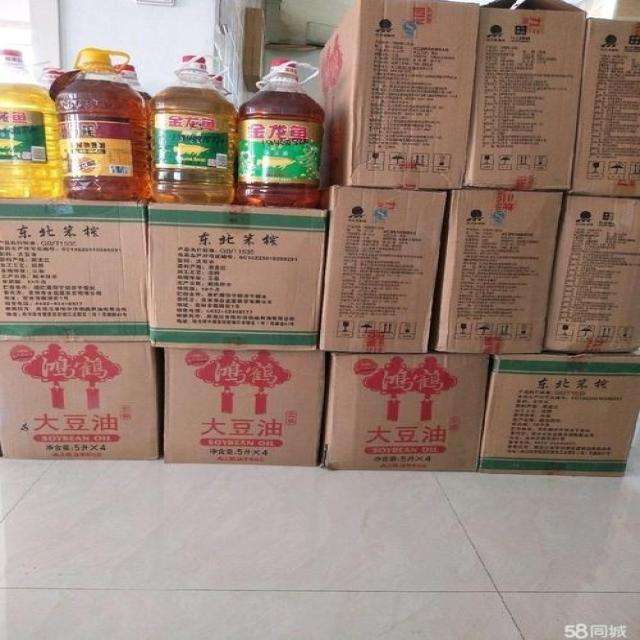box: (317, 0, 480, 191), (148, 201, 328, 352), (429, 189, 567, 355), (465, 0, 586, 189), (319, 183, 449, 353), (0, 198, 148, 343), (477, 353, 640, 478), (319, 353, 490, 472), (163, 348, 325, 466), (0, 343, 161, 460), (547, 195, 640, 353), (570, 18, 640, 199)
